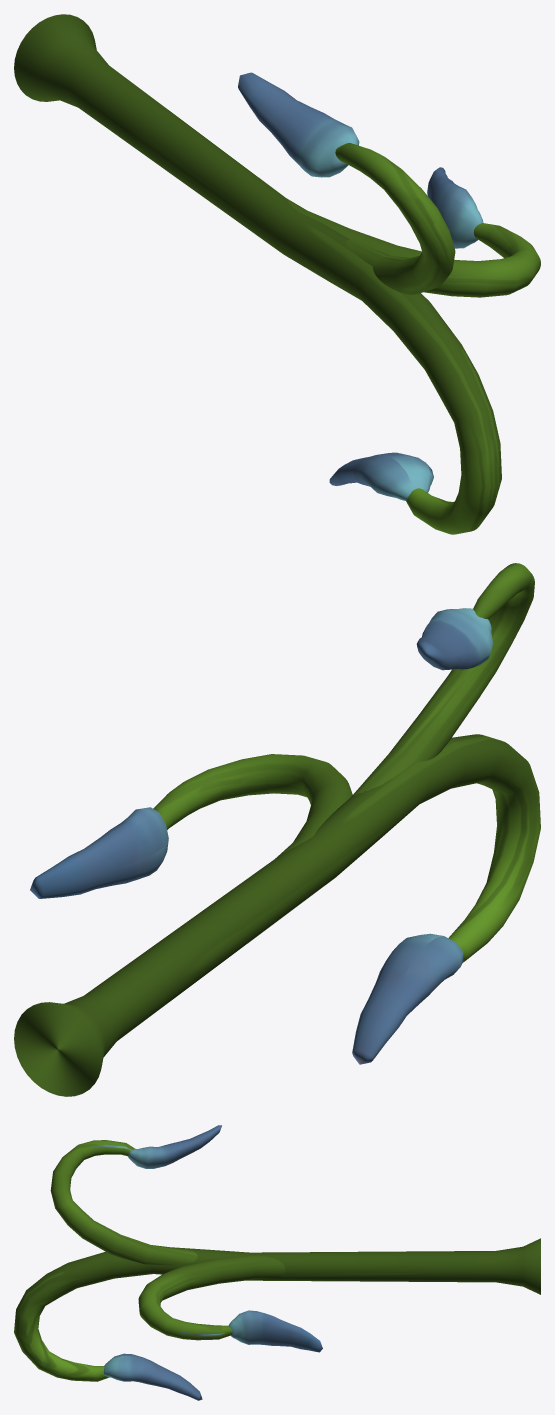
The model's file is peppers.obj.
3 views of the same model, one above another, from view 1: azimuth 30°, elevation 25°; view 2: azimuth 150°, elevation 25°; view 3: azimuth 270°, elevation 25° (orthographic). The views are drawn at different scales.
Parts seen in each view (by area): view 1: ghost_pepper; view 2: ghost_pepper; view 3: ghost_pepper.
Boxes of the visible parts, box(x1,y1,x2,y2) form: ghost_pepper: box(14, 14, 540, 534); ghost_pepper: box(14, 563, 540, 1096); ghost_pepper: box(14, 1125, 540, 1400).
Size of the model in its own units: 2.69 by 3.68 by 6.97.
